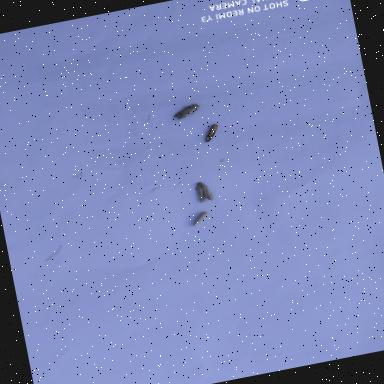pbw: (166, 96, 209, 128), (184, 204, 221, 232), (185, 177, 219, 207), (196, 120, 224, 148)
